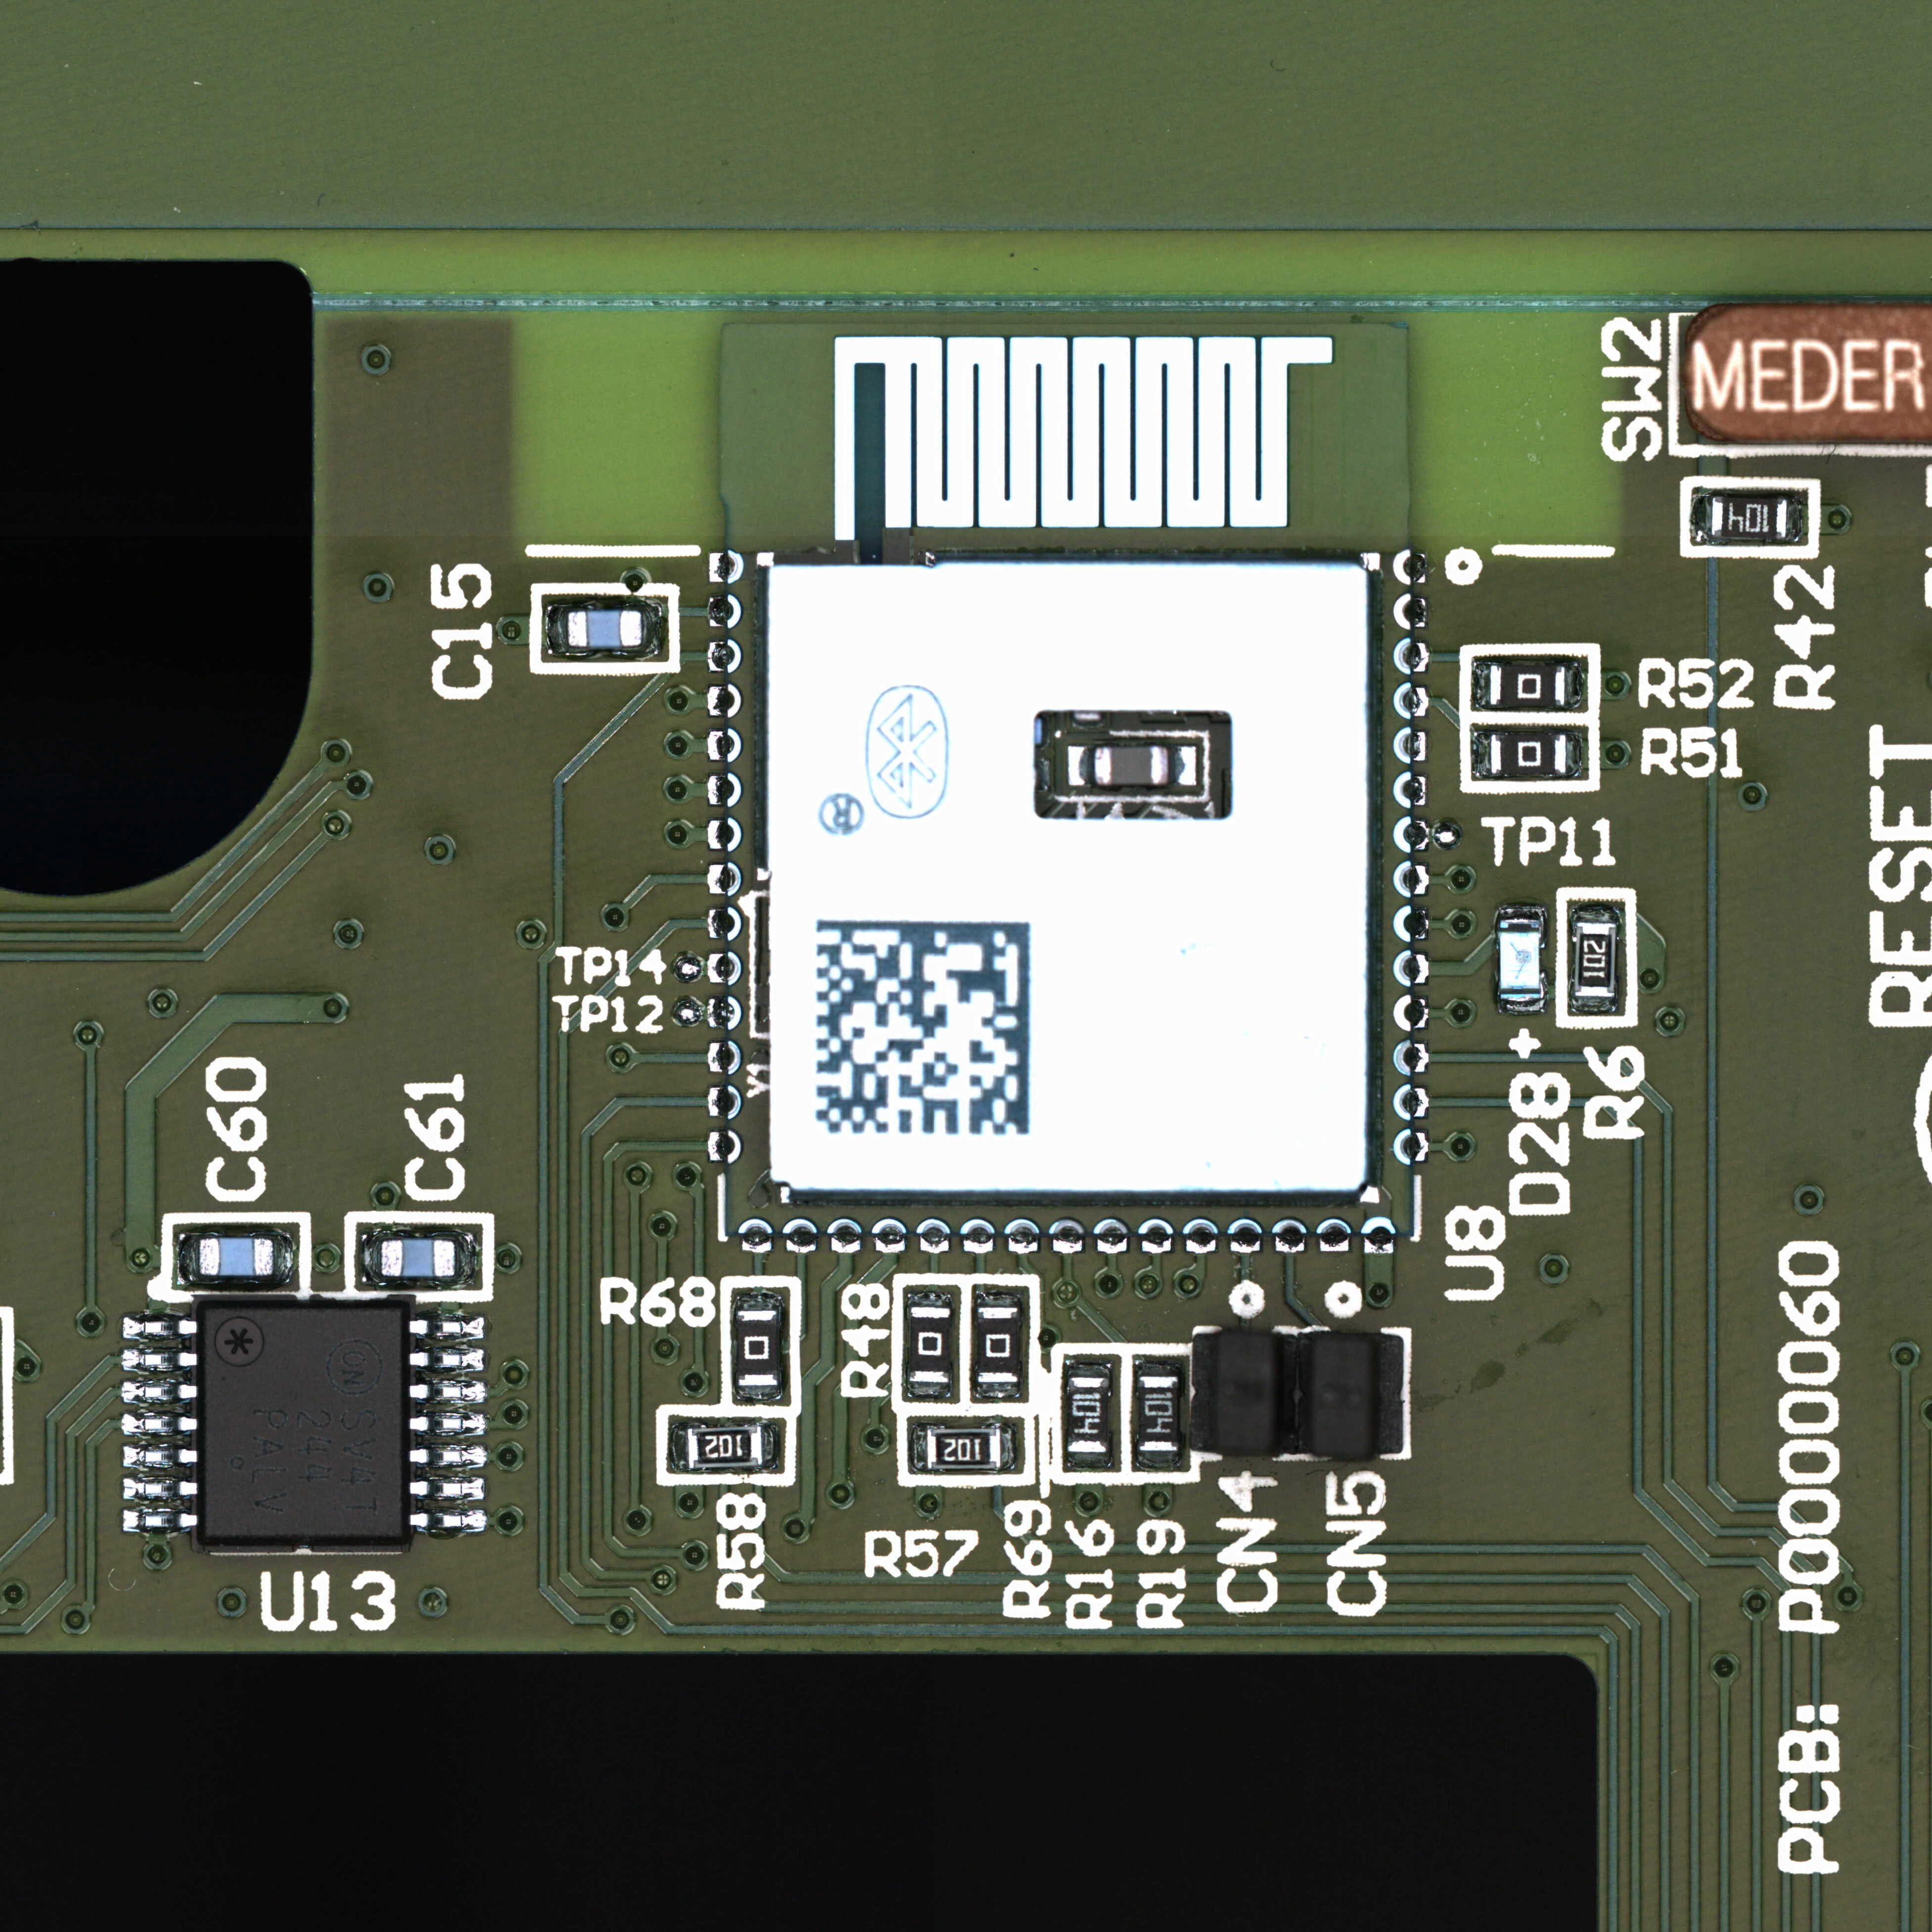Package: (198, 1302, 410, 1543), (1490, 731, 1568, 775), (1490, 662, 1566, 706), (686, 1424, 763, 1468), (1711, 495, 1787, 540), (927, 1426, 1001, 1470), (1500, 920, 1541, 1000), (978, 1307, 1019, 1385), (911, 1306, 952, 1384), (738, 1311, 778, 1387), (1069, 1376, 1109, 1453), (1575, 924, 1615, 998), (382, 1237, 455, 1277), (1139, 1376, 1178, 1451), (198, 1237, 272, 1276), (568, 609, 642, 648), (1095, 747, 1168, 786)
Solder: (122, 1376, 198, 1403), (410, 1444, 488, 1468), (122, 1315, 198, 1339), (410, 1476, 487, 1500), (122, 1476, 198, 1500), (410, 1378, 487, 1403), (122, 1346, 198, 1371), (122, 1412, 198, 1437), (122, 1507, 198, 1532), (410, 1410, 487, 1435), (410, 1509, 487, 1534), (410, 1346, 485, 1371), (122, 1444, 198, 1467), (410, 1316, 485, 1339), (274, 1230, 294, 1286), (456, 1231, 476, 1286), (1171, 745, 1196, 786), (644, 602, 662, 658), (548, 603, 568, 655), (1069, 747, 1093, 786), (179, 1233, 198, 1283), (363, 1231, 380, 1283), (736, 1292, 782, 1311), (1134, 1359, 1182, 1376), (1693, 494, 1711, 541), (1573, 906, 1617, 924), (1067, 1359, 1111, 1376), (1566, 662, 1582, 708), (1474, 731, 1490, 777), (672, 1421, 686, 1472), (1571, 998, 1615, 1014), (1138, 1453, 1182, 1468), (763, 1422, 777, 1470), (1568, 731, 1582, 778), (1001, 1424, 1016, 1470), (1787, 495, 1801, 541), (1476, 662, 1490, 708), (1500, 1000, 1545, 1014), (977, 1385, 1021, 1399), (908, 1292, 952, 1306), (913, 1426, 927, 1470), (1067, 1453, 1111, 1467), (909, 1384, 952, 1398), (736, 1389, 782, 1401), (978, 1293, 1021, 1306), (1500, 908, 1541, 920)
